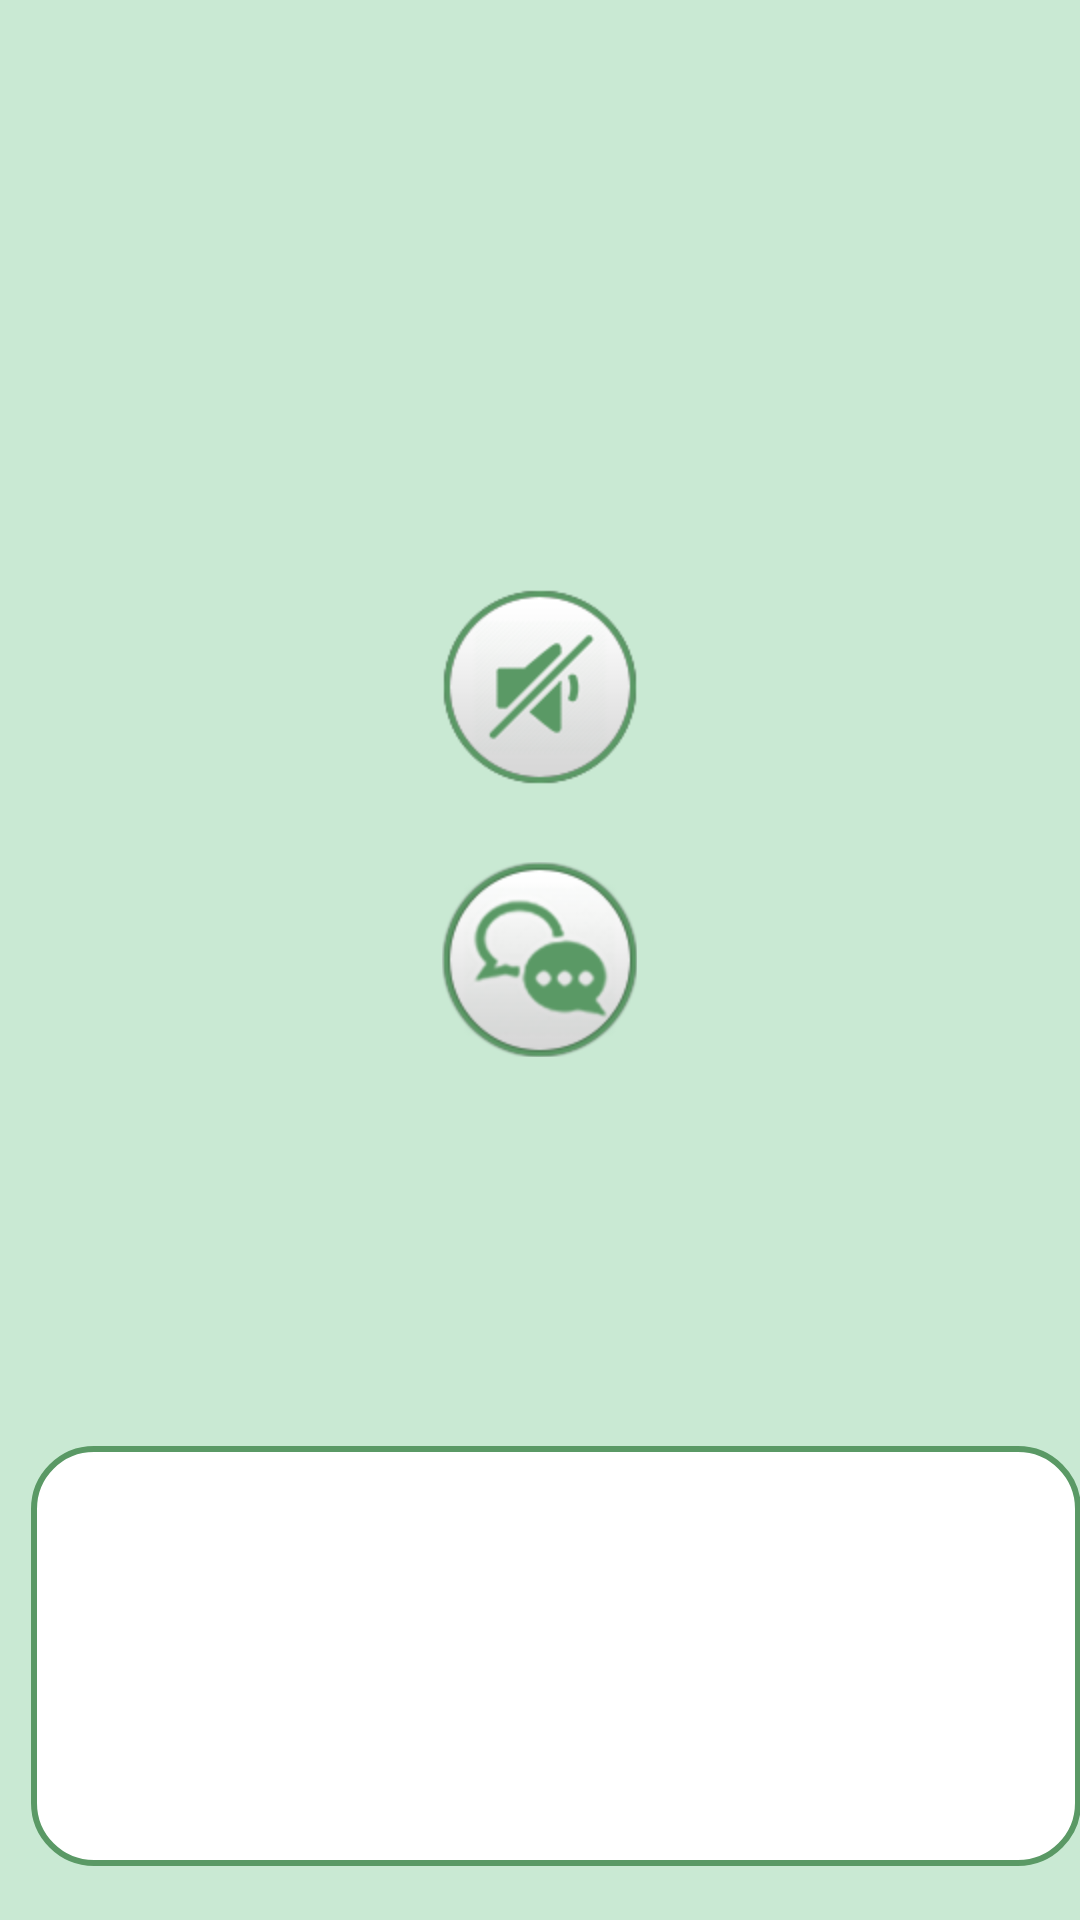

Icons on this 1080px x 1920px Android screen, each with its box as [x1, y1, x2, y2]:
convo on: [442, 862, 637, 1057]
custom speaker: [443, 590, 637, 784]
